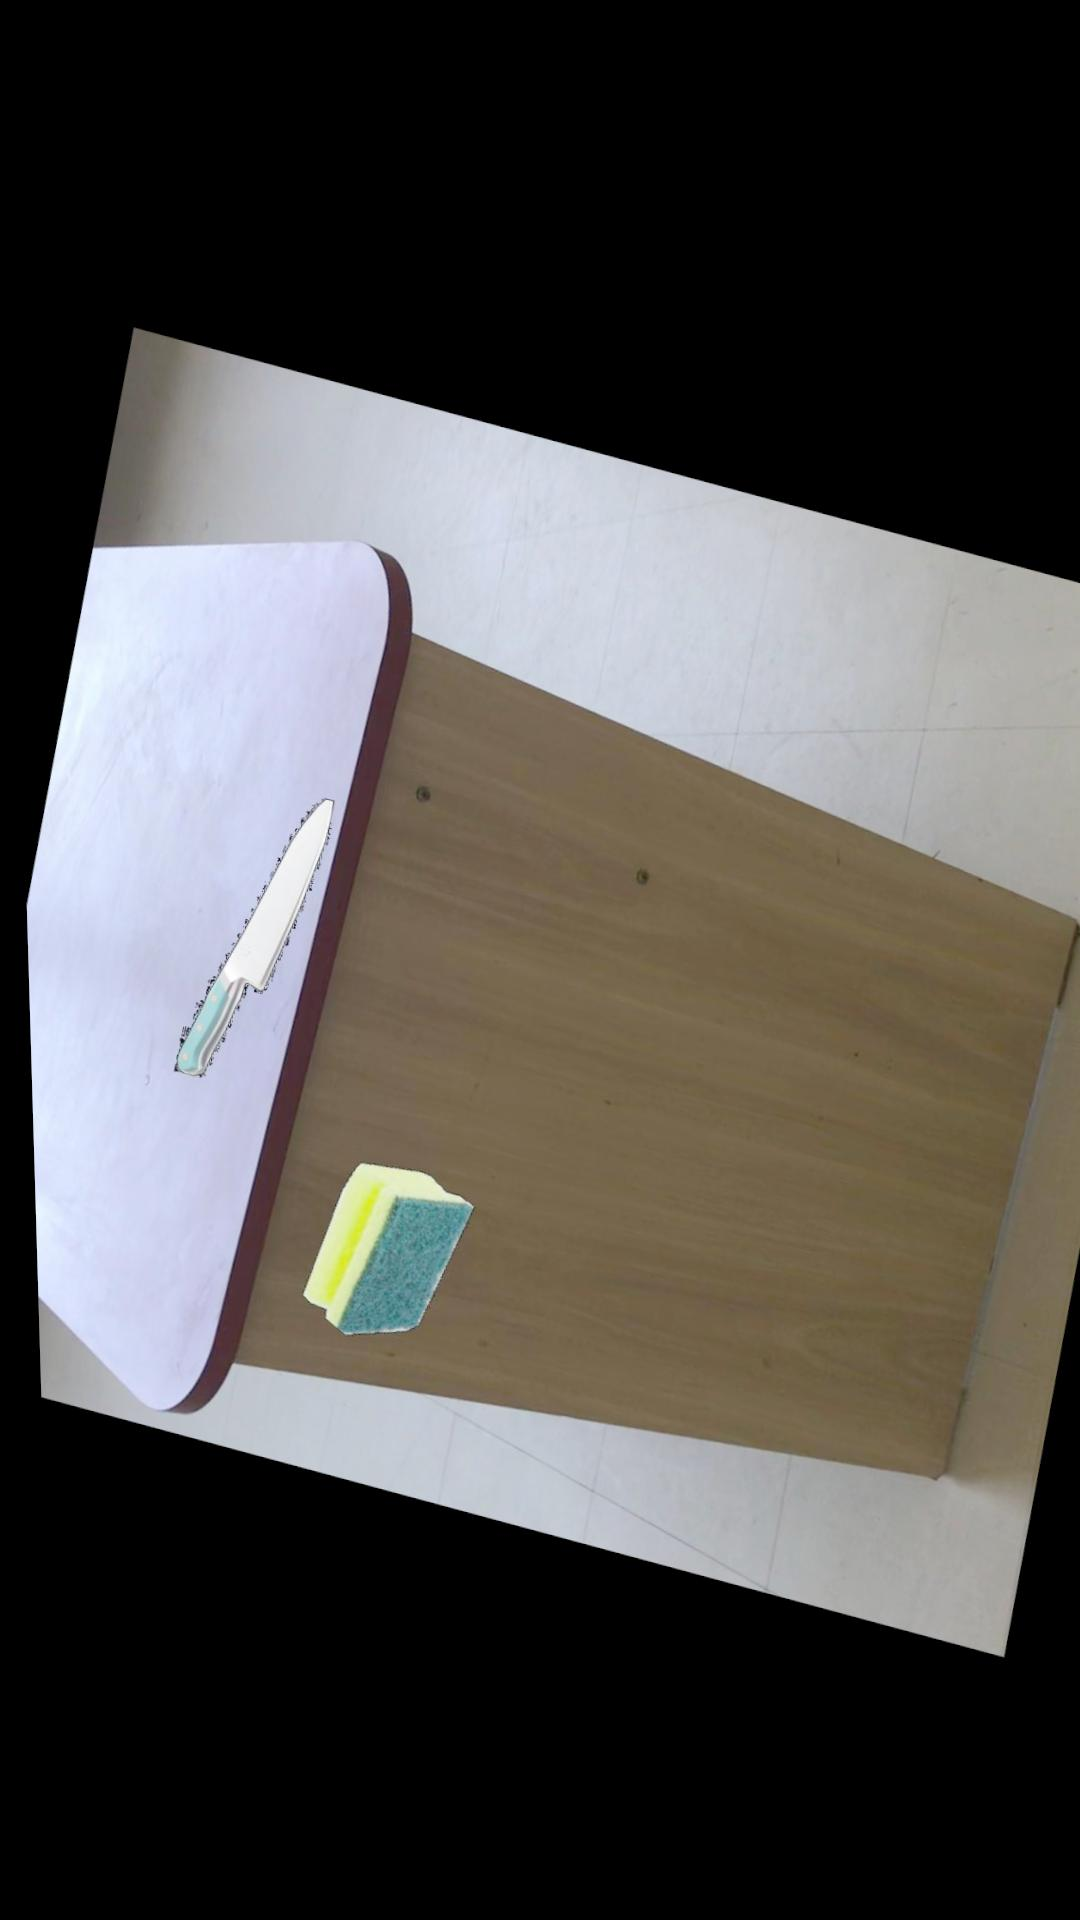knife: (166, 791, 328, 1073)
sponge: (293, 1155, 465, 1329)
